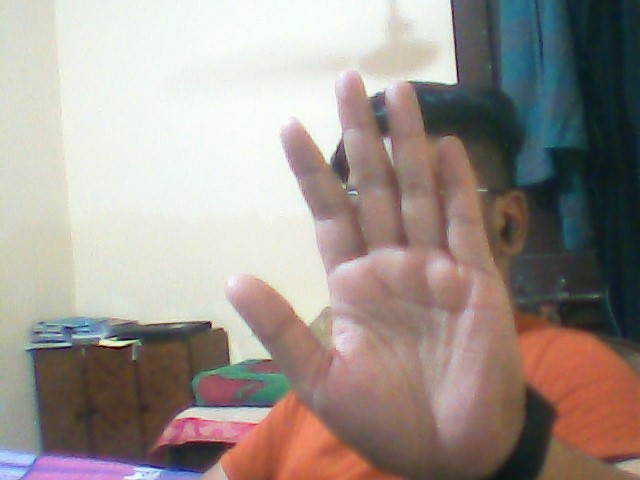Hello: (226, 70, 526, 456)
